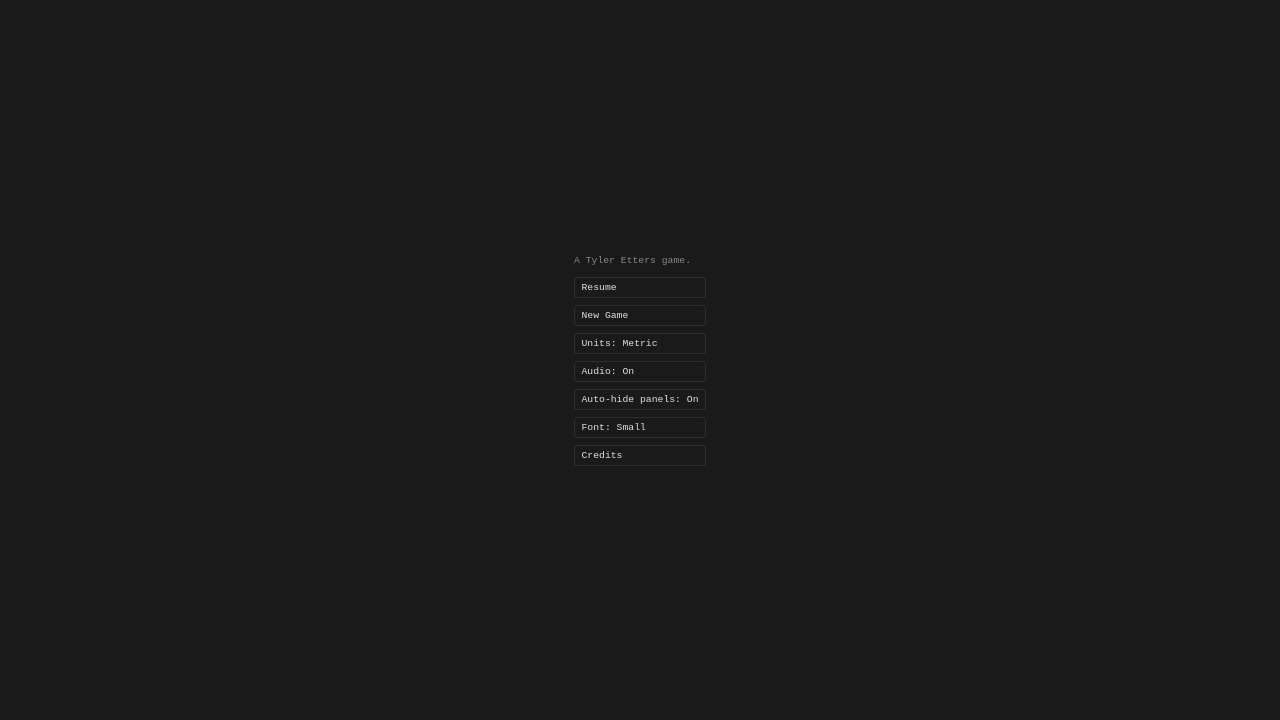
Menu › opens the credits modal when Credits is clicked
Click the button "Credits": (640, 455) [574,445,706,466]
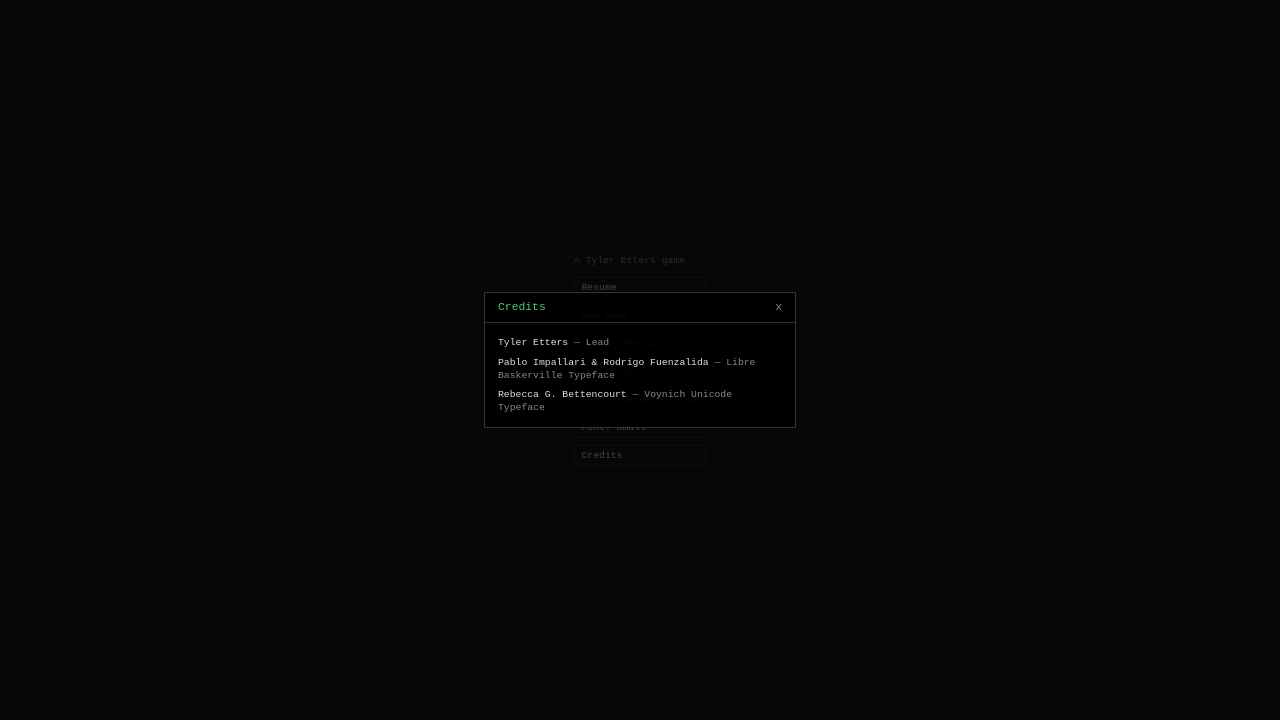
Expected: the dialog with test id "credits-modal" is shown, [484,292,796,428]
